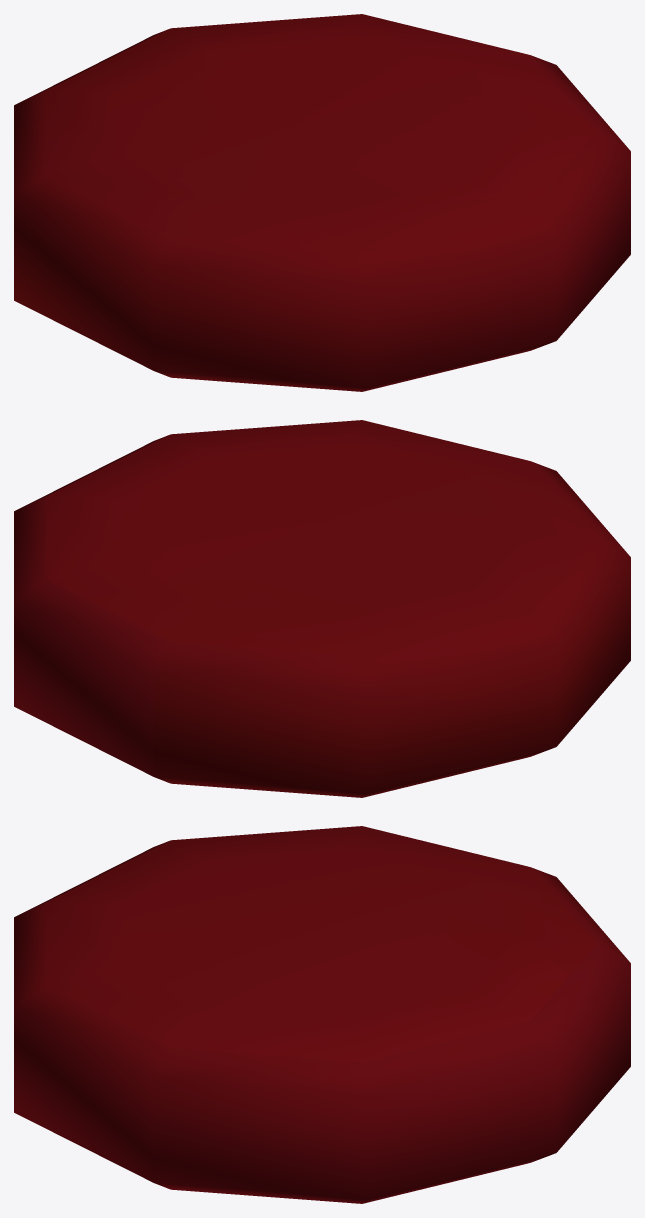
Rendered from RawBurgerPatty.glb.
3 views of the same model, one above another, from view 1: azimuth 30°, elevation 25°; view 2: azimuth 150°, elevation 25°; view 3: azimuth 270°, elevation 25° (orthographic).
Visible parts, largest first — view 1: RawBurgerPatty; view 2: RawBurgerPatty; view 3: RawBurgerPatty.
Part boxes in pixels (bbox=[...]): RawBurgerPatty: bbox=[14, 14, 630, 391]; RawBurgerPatty: bbox=[14, 420, 630, 797]; RawBurgerPatty: bbox=[14, 826, 630, 1203].
Bounding box in the file's own units: 0.1835 × 0.0509 × 0.1807.
Materials: 1 (1 with a texture image).
